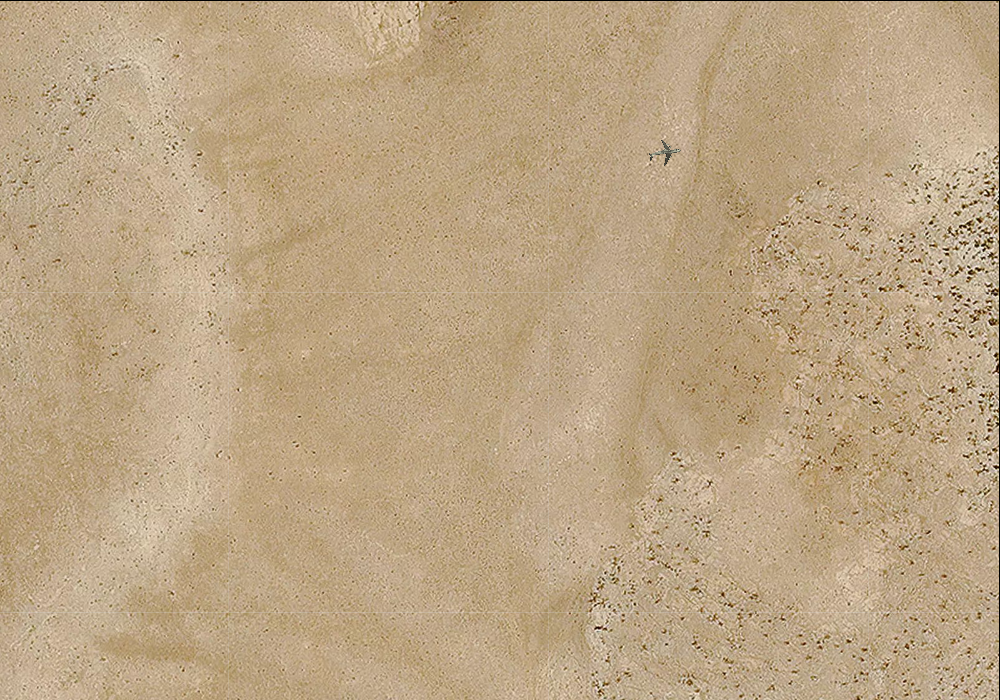plane: (647, 136, 683, 170)
